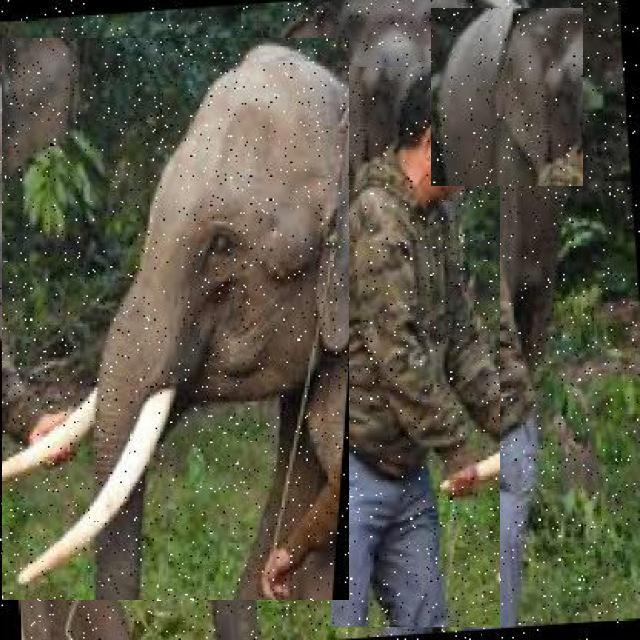Elephant: (2, 38, 349, 600)
